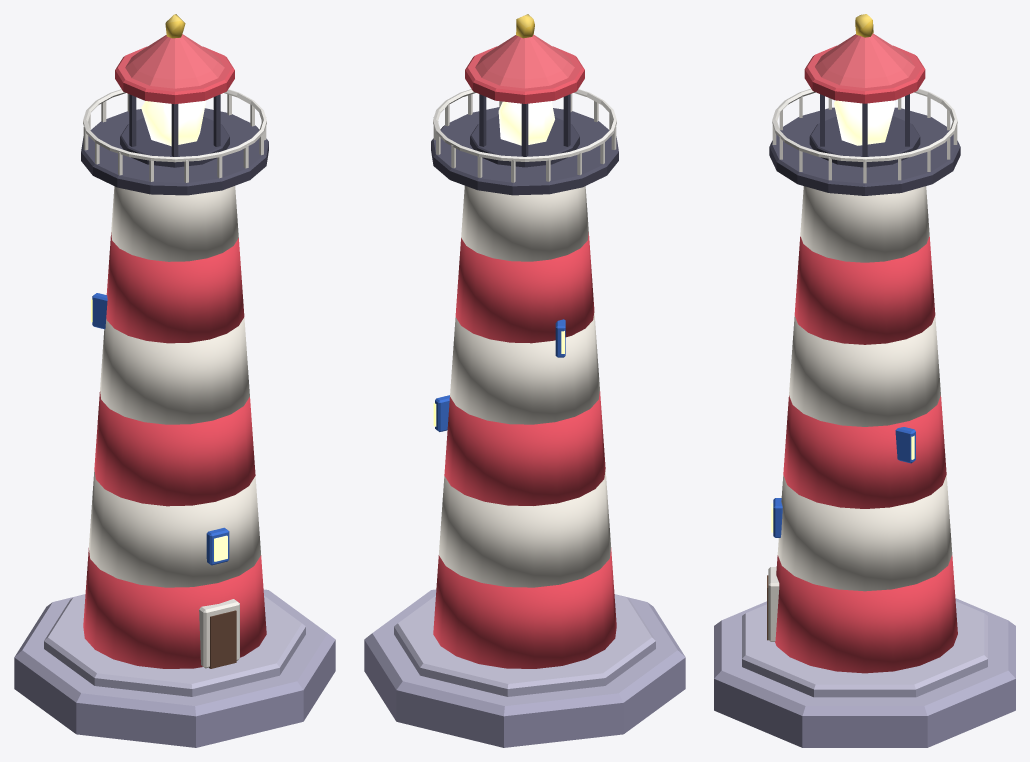
The model's file is Lighthouse.glb.
3 views of the same model, side by side, from view 1: azimuth 30°, elevation 25°; view 2: azimuth 150°, elevation 25°; view 3: azimuth 270°, elevation 25° (orthographic).
Visible parts, largest first — view 1: Lighthouse, Lighthouse_Glow_light; view 2: Lighthouse, Lighthouse_Glow_light; view 3: Lighthouse, Lighthouse_Glow_light.
Part boxes in pixels (x1,y1,x2,y2): Lighthouse: (14, 14, 335, 747); Lighthouse_Glow_light: (141, 100, 205, 146); Lighthouse: (364, 14, 685, 747); Lighthouse_Glow_light: (498, 101, 554, 145); Lighthouse: (714, 14, 1015, 747); Lighthouse_Glow_light: (834, 100, 895, 145).
Size of the model in its own units: 24.02 by 58.83 by 24.02.
3 materials, 1 textured.
